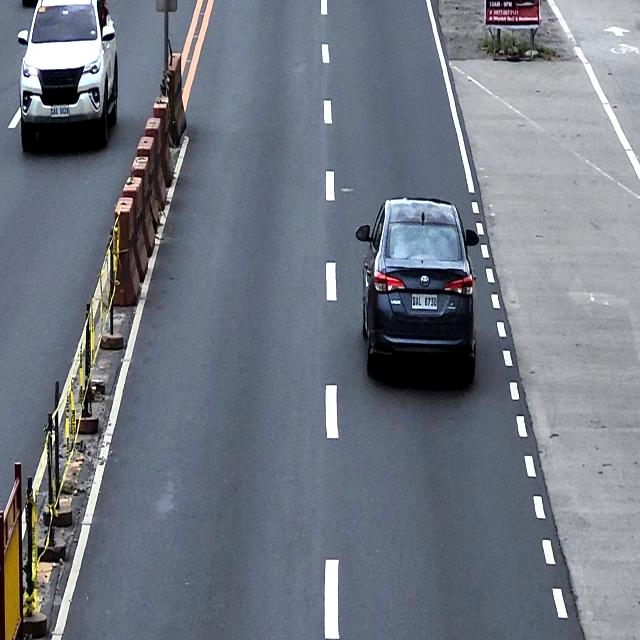Car: (355, 196, 479, 381), (16, 0, 118, 152)
License-Plate: (411, 291, 438, 311), (50, 104, 70, 118)
